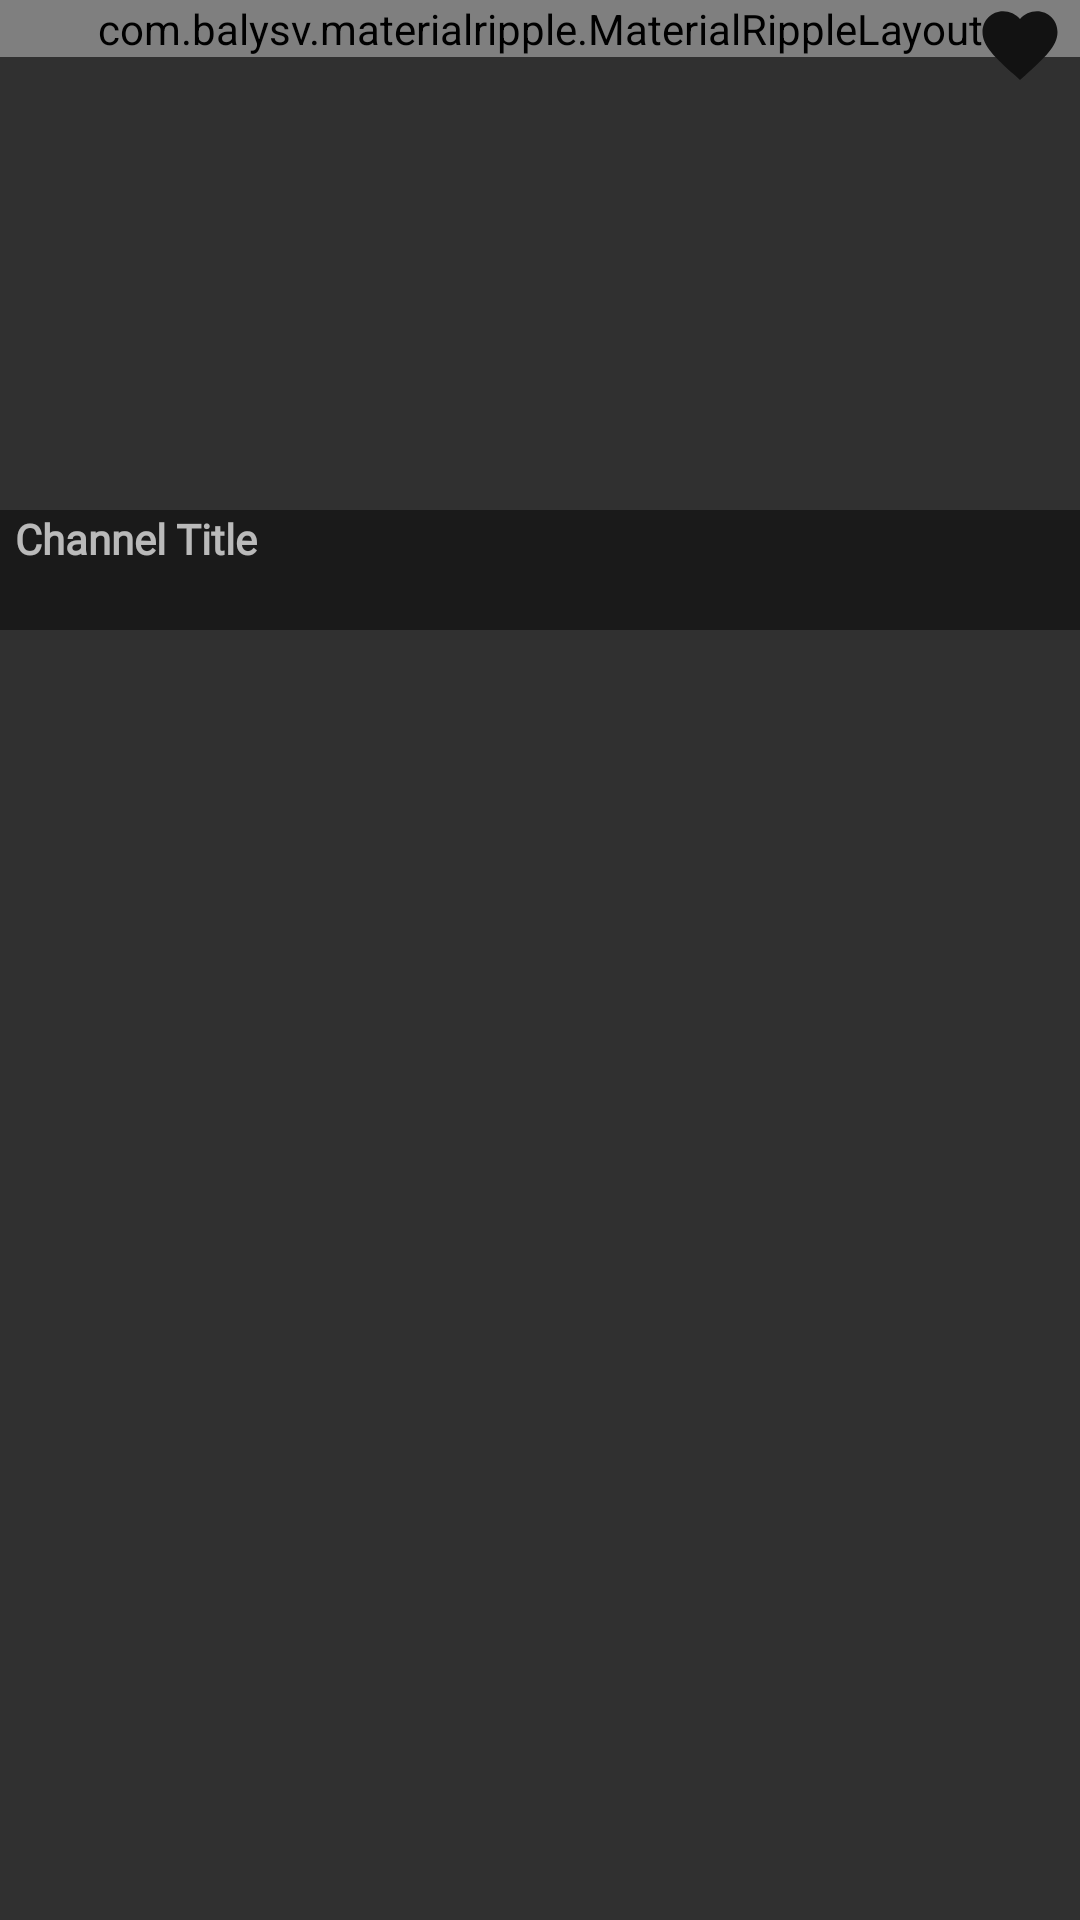

Screen size 1080w x 1920h. Icon name, then its box in pixels as box(x1, y1, x2, y2):
favorite: box(975, 0, 1065, 79)
